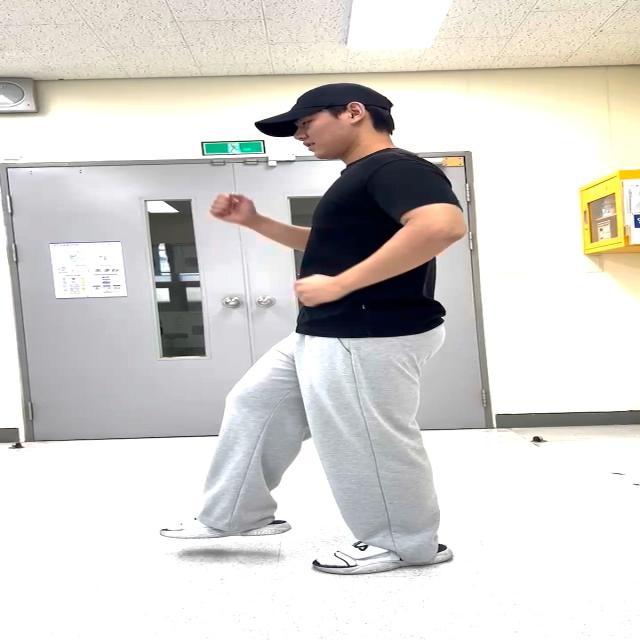leg: (177, 348, 292, 530)
